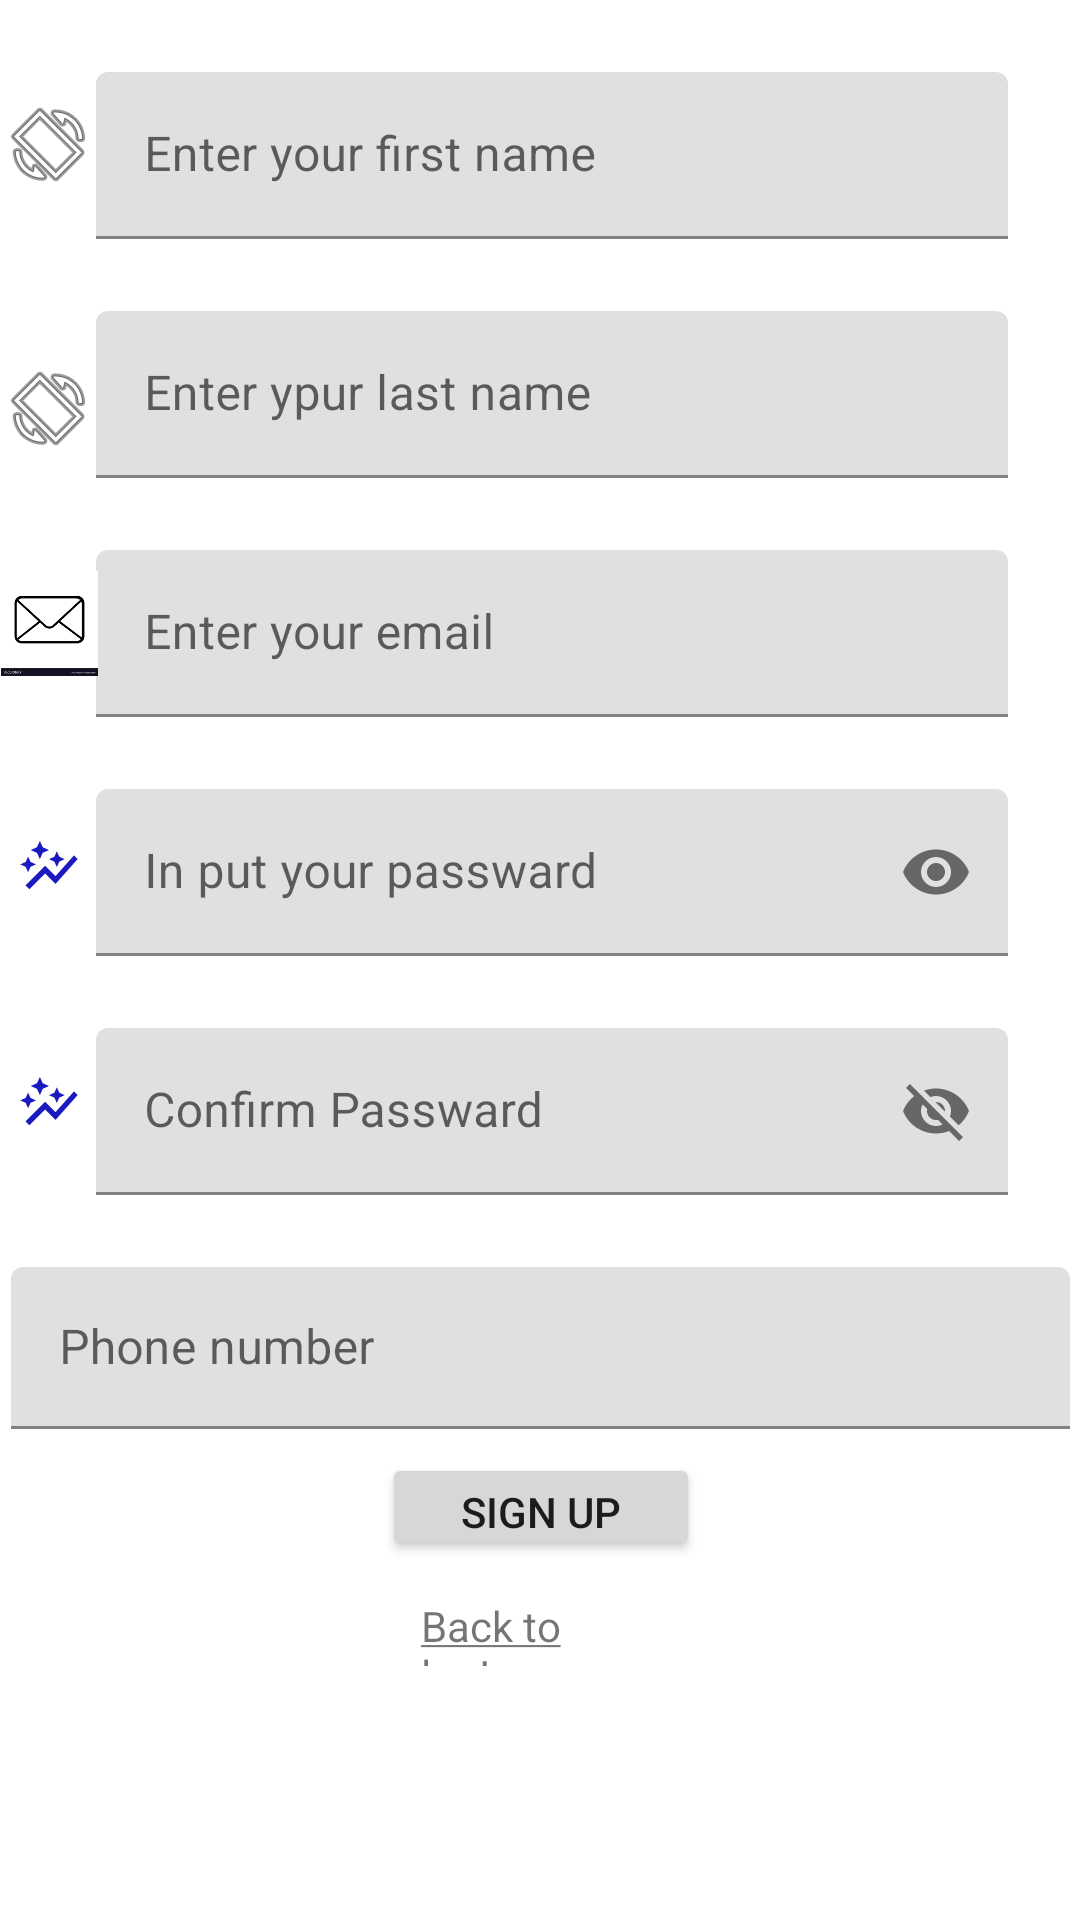

Point at icon controls on the screen. Image size 1080px×1920px, points as [x,y].
always landscape portrait: [48,144], [48,408]
